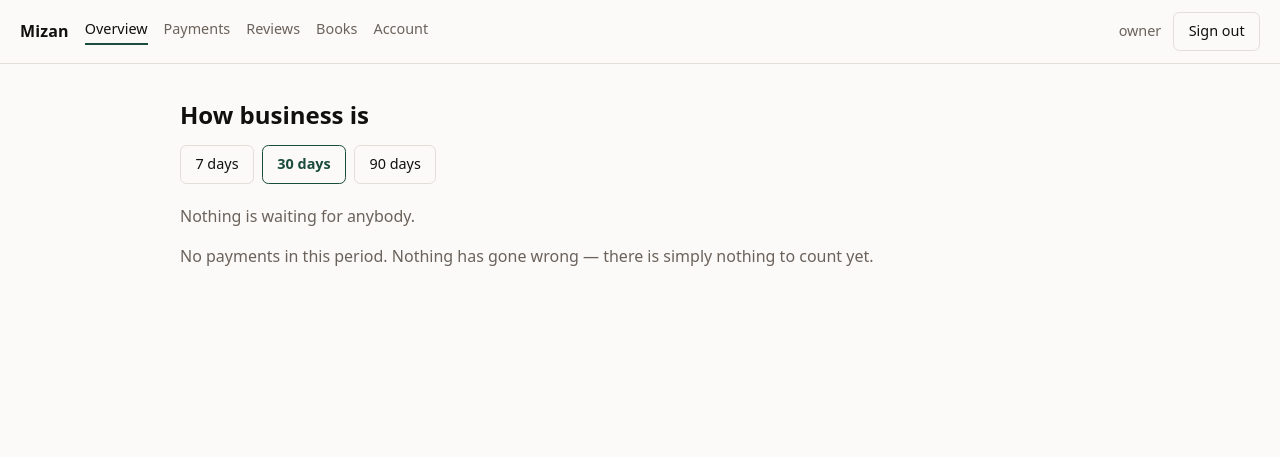
Scenario: opening the console › puts somebody back at the door when they sign out
Check: the heading "How business is" is shown, box [180, 98, 369, 131]
Click the button "Sign out". click: [1217, 31]
box: [1173, 12, 1260, 51]
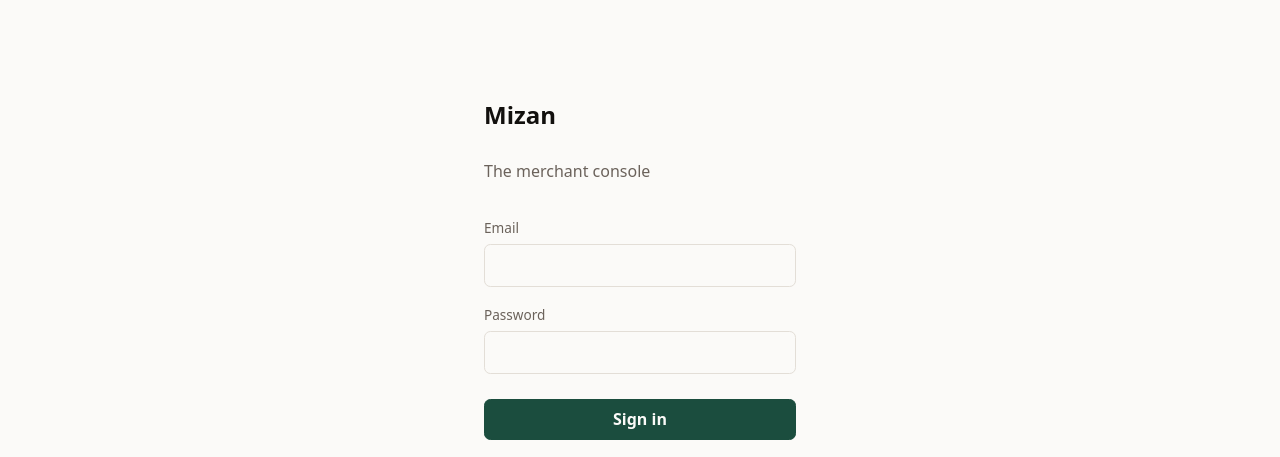
Check: the button "Sign in" is shown, box [484, 399, 796, 440]
